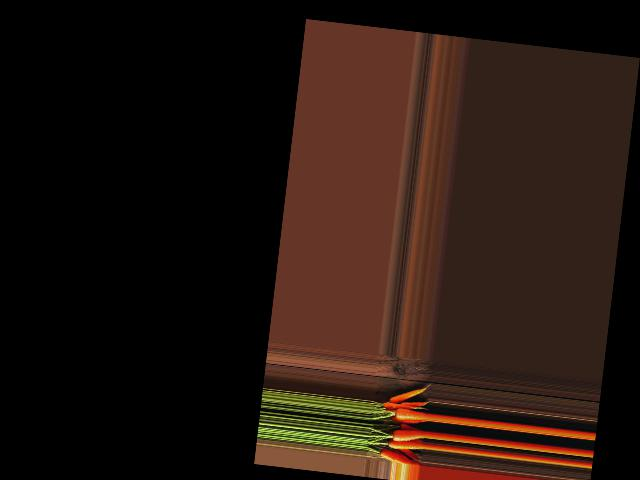carrot: (385, 359, 456, 396)
